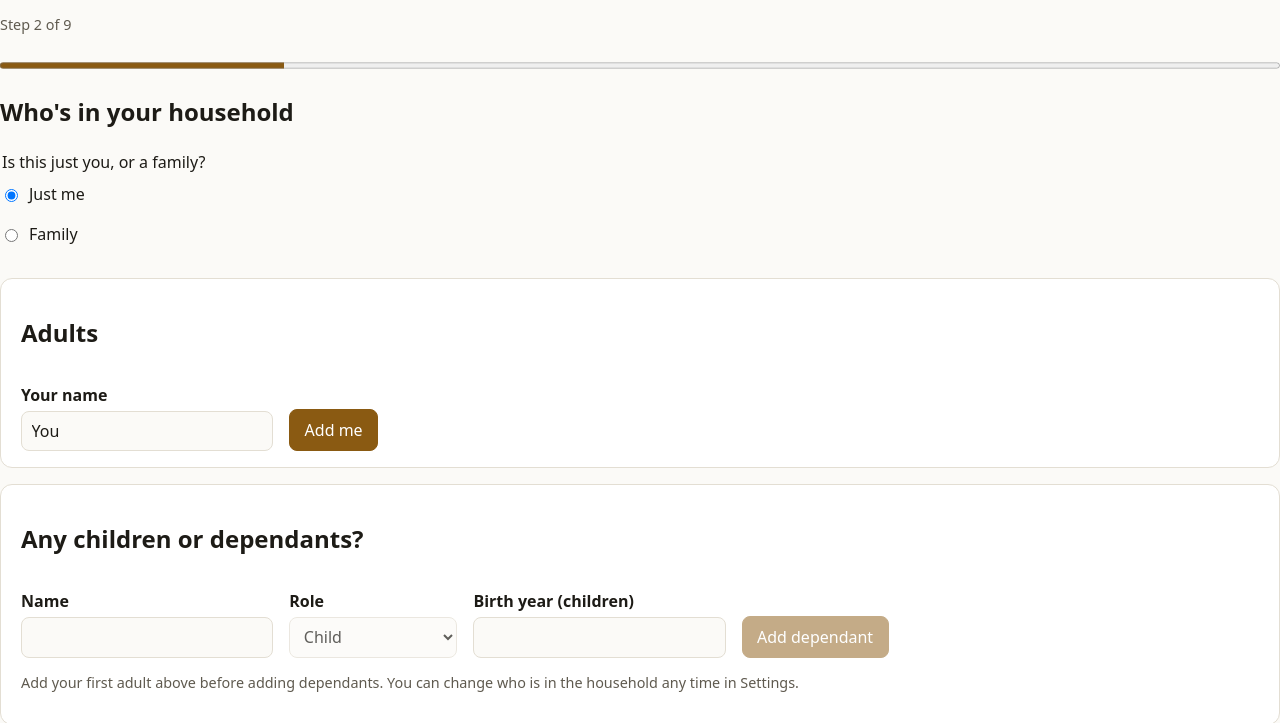
adds the signed-in adult as "You" (editable) when the household is empty, before a partner
Replace the text in the field labelled "Your name" with "Alex Example" at (147, 431), box [21,411,273,451]
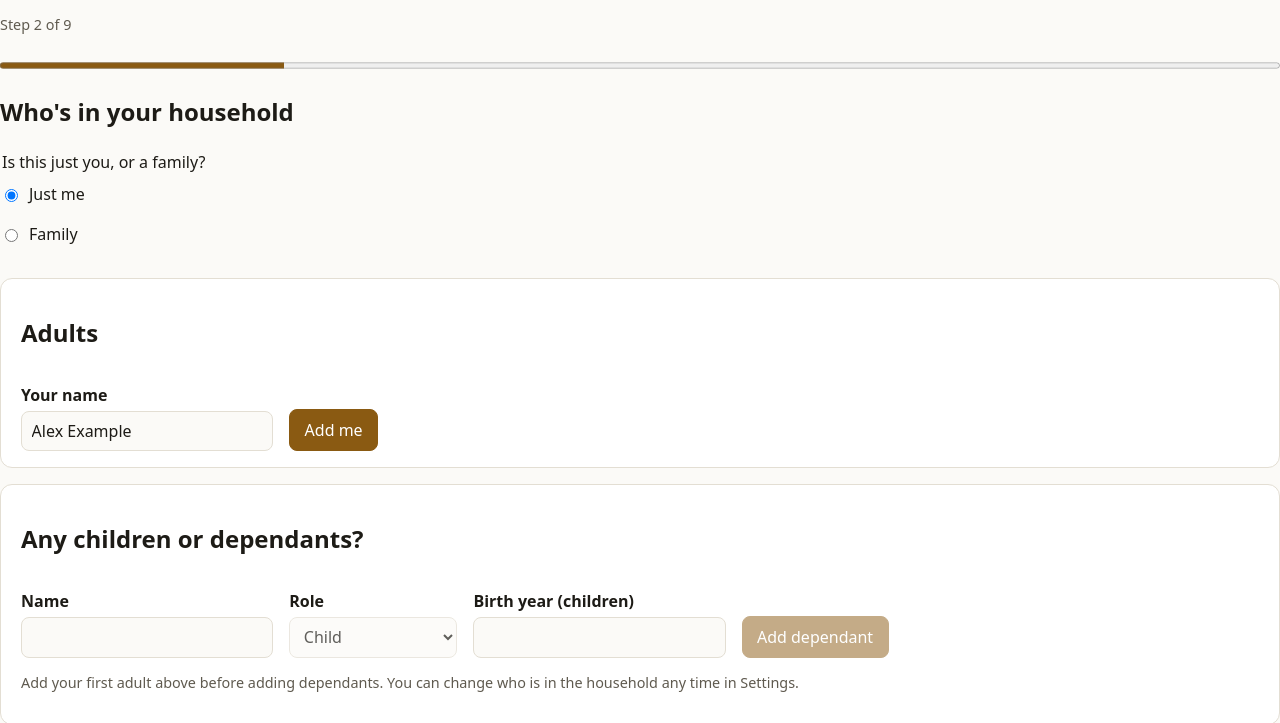
Click the button "Add me" at (334, 430), box [289,409,378,451]
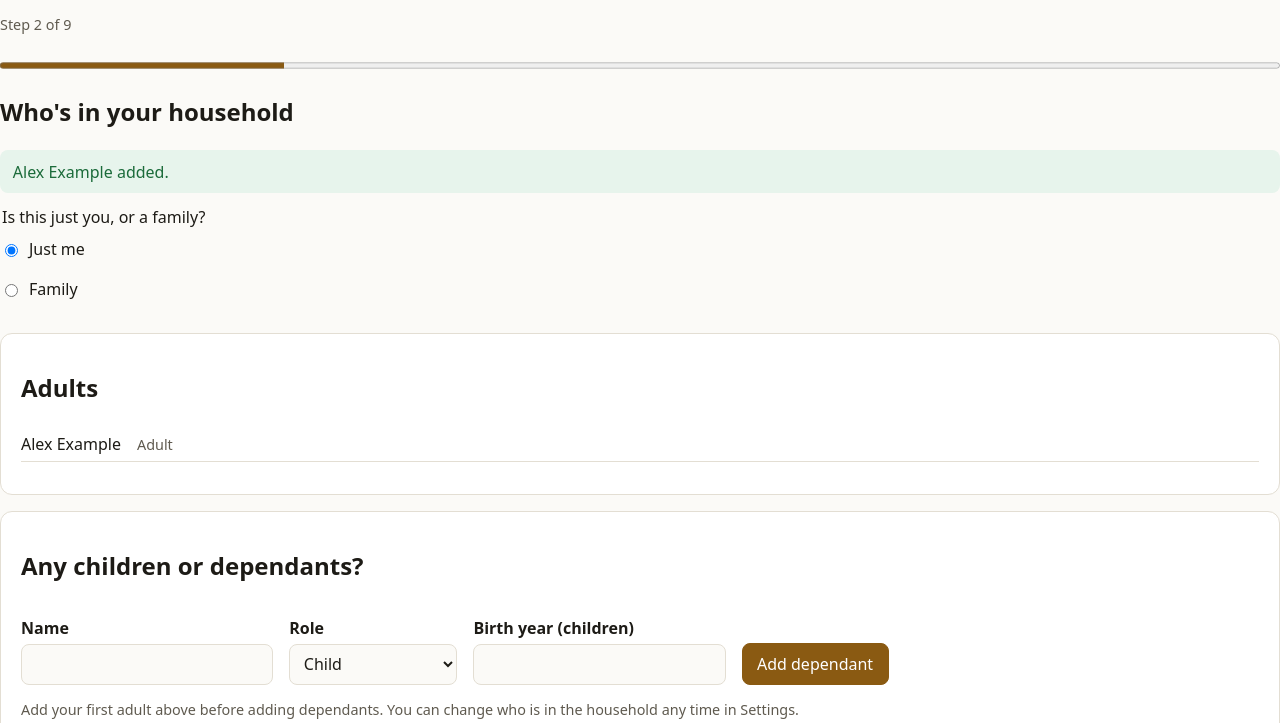
Now the text "Alex Example added." is shown, box [0,150,1279,193]
Click the radio button labelled "Family" at (12, 291), box [5,284,18,297]
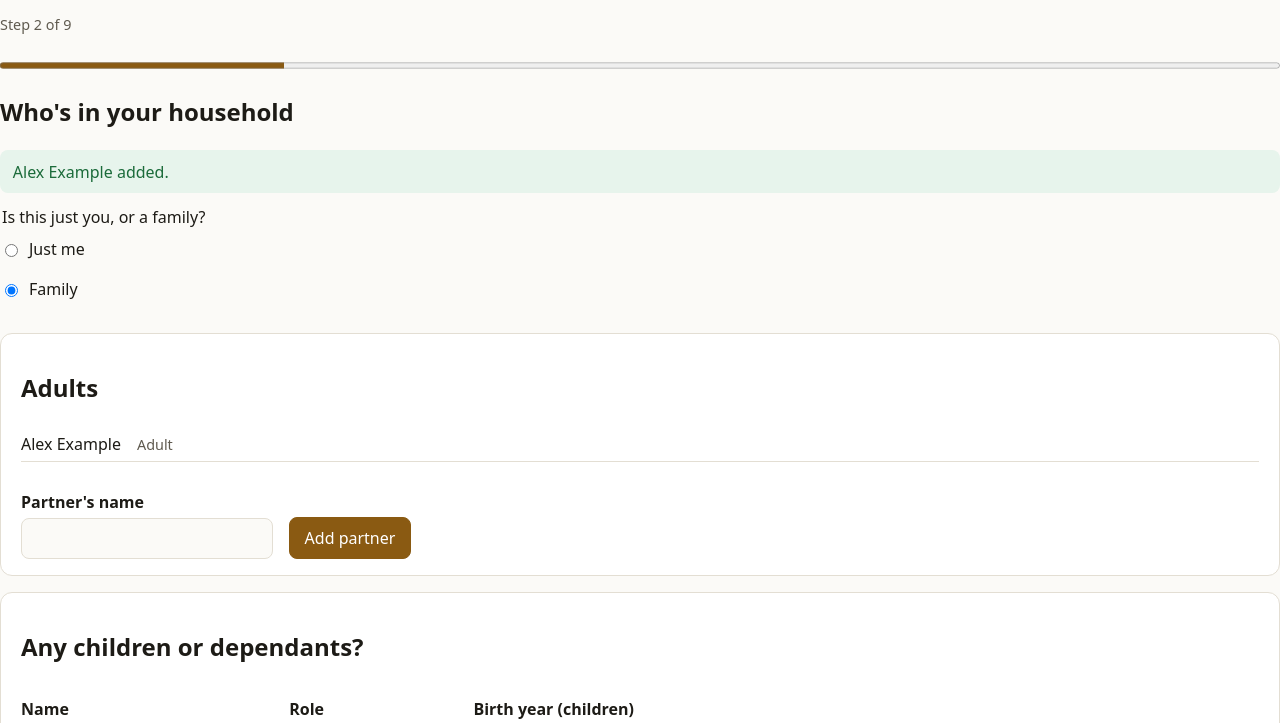
Now the field labelled "Partner's name" is shown, box [21,518,273,559]
